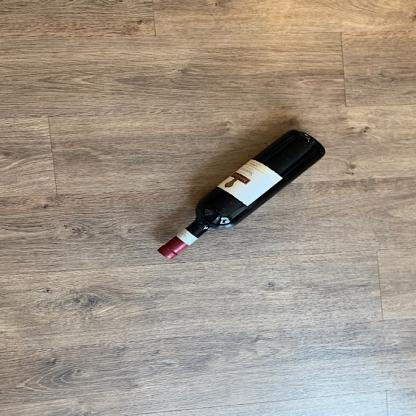trash: (156, 131, 330, 259)
